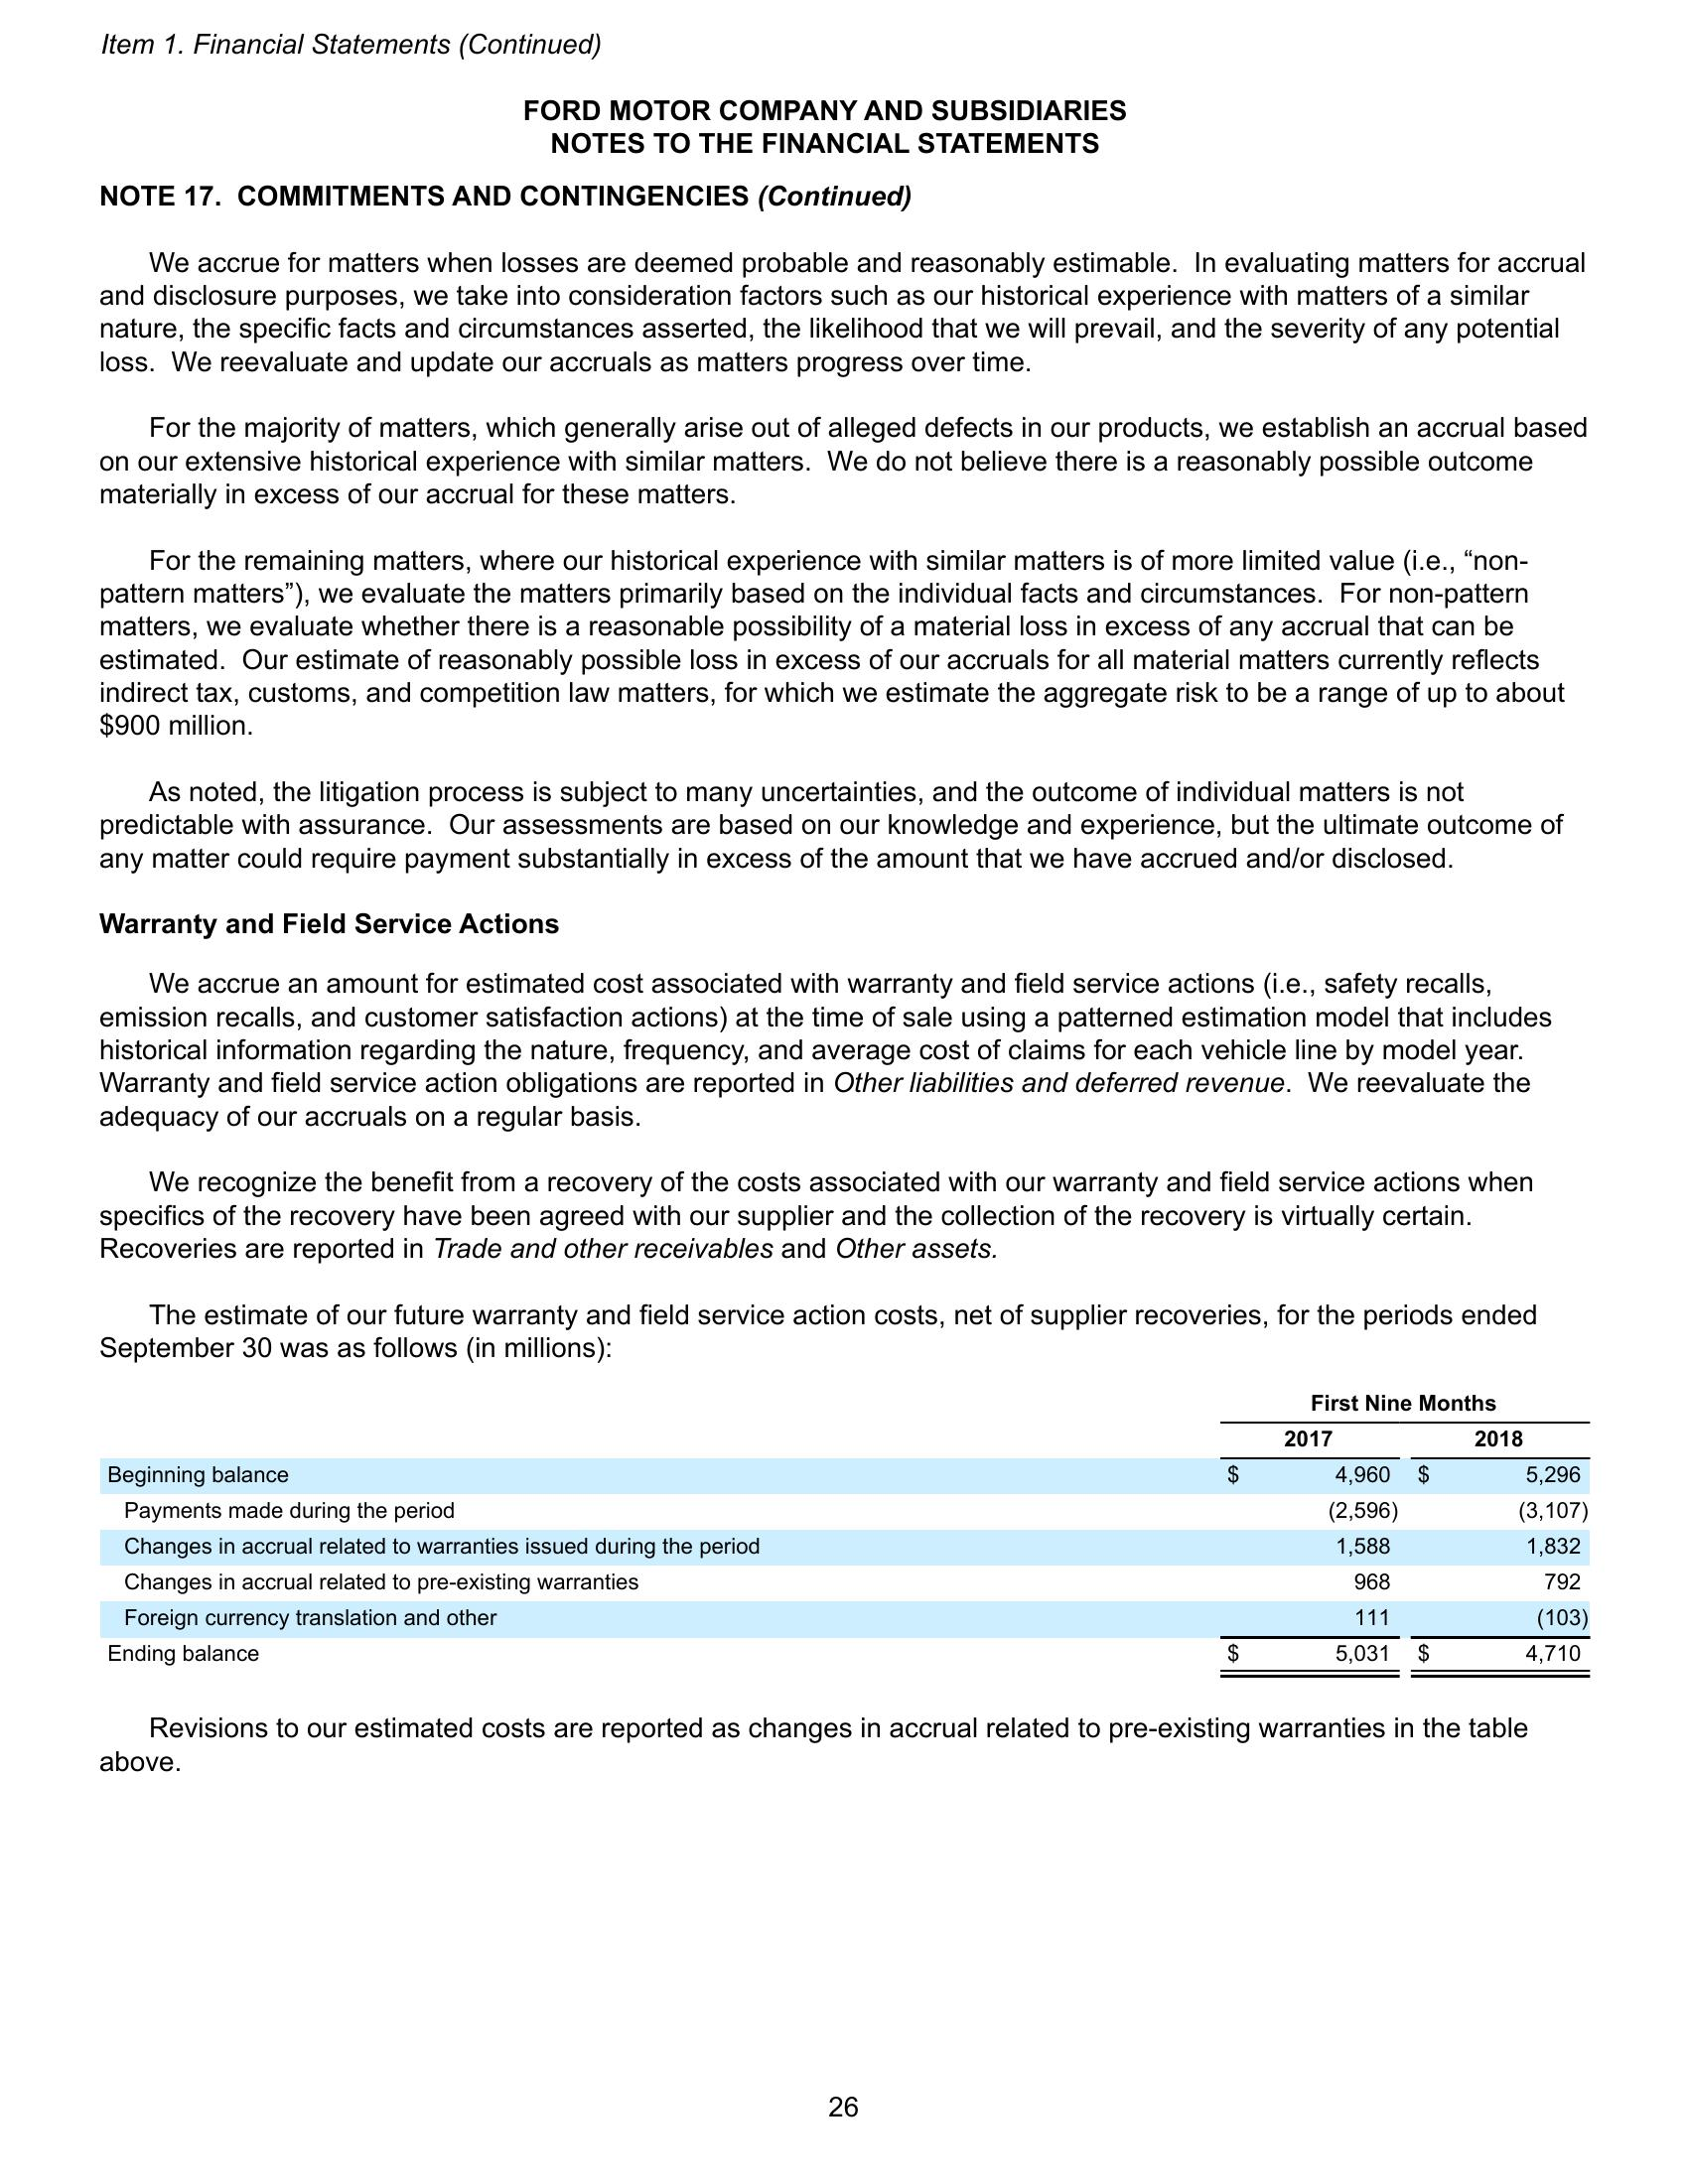table: (94, 1386, 1596, 1684)
